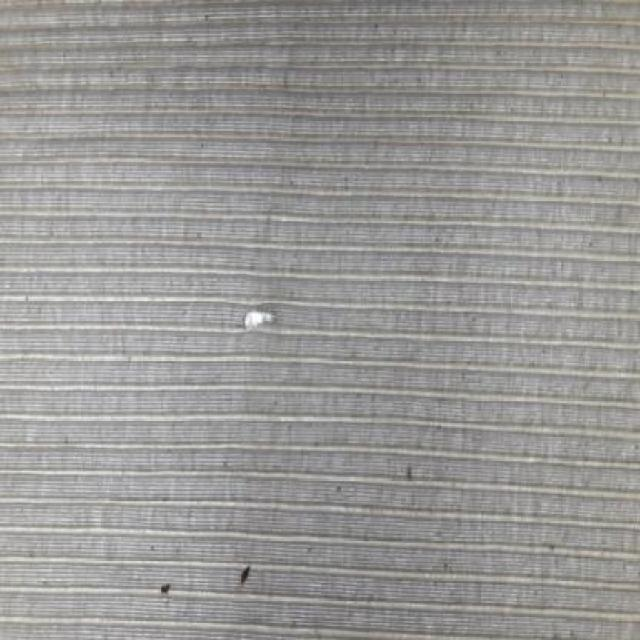seam: (235, 306, 285, 340)
